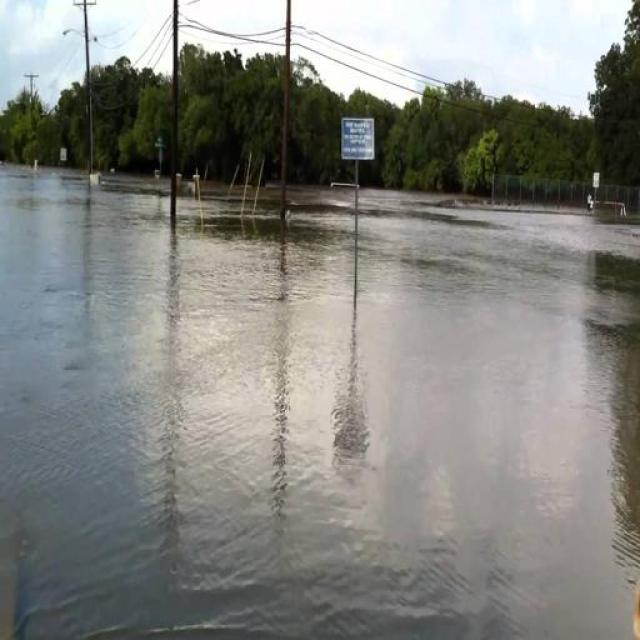puddle: (45, 217, 630, 613), (2, 170, 102, 602)
